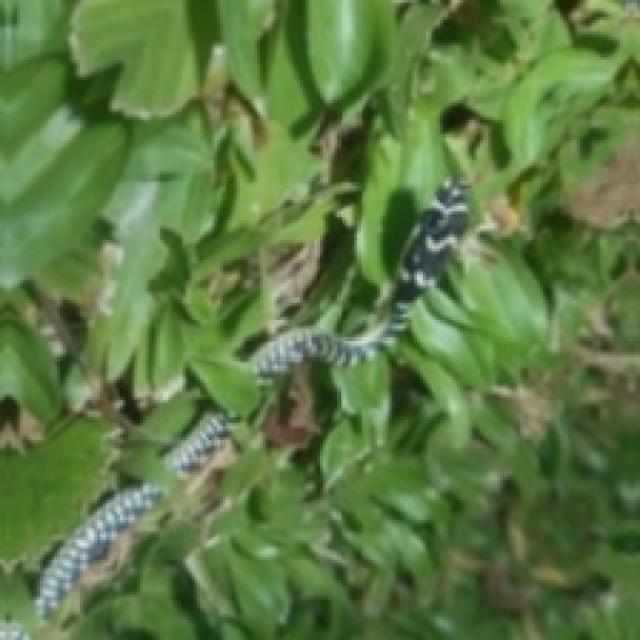paradise tree snake: (249, 180, 466, 374), (34, 483, 160, 614)
